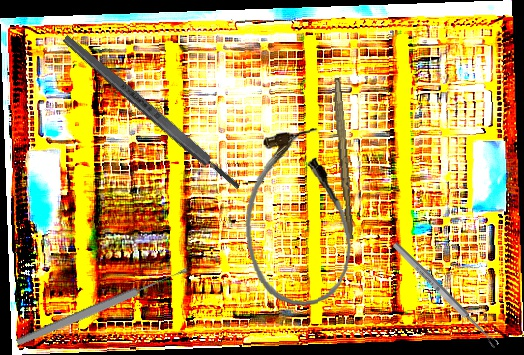Cannula: (236, 125, 358, 311)
Scalpel Handle: (60, 32, 244, 193), (329, 77, 357, 240)
Surgical Spoon: (15, 265, 189, 348), (391, 240, 500, 350)
